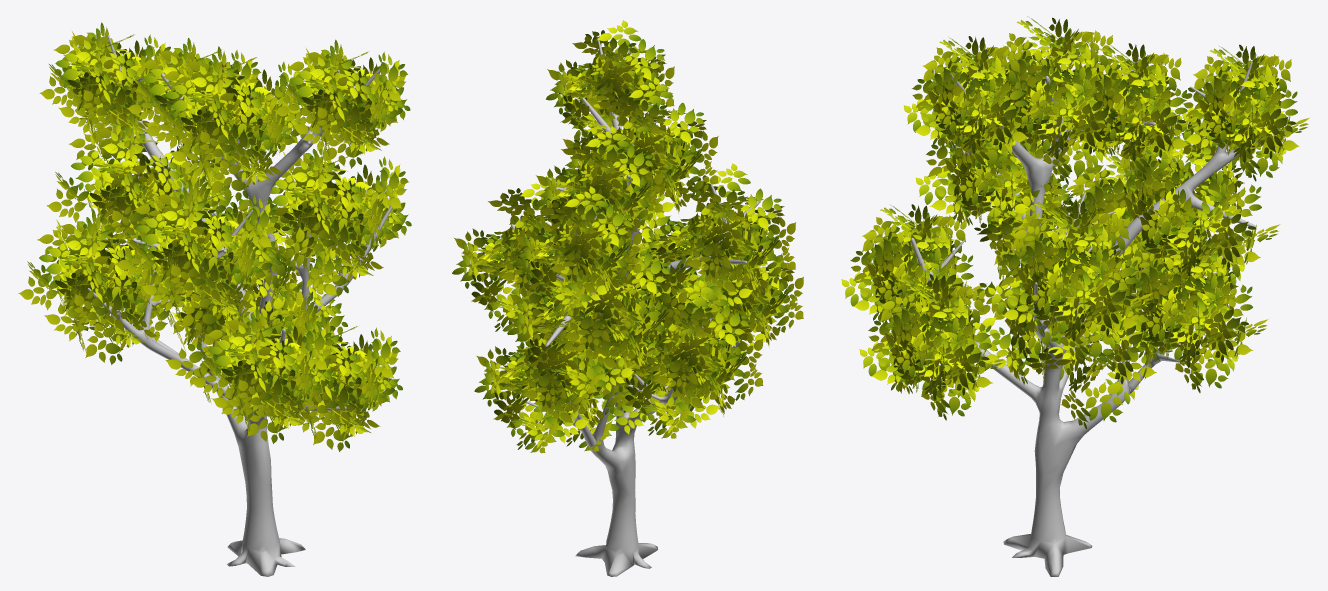
Rendered from Tree2.fbx.
3 views of the same model, side by side, from view 1: azimuth 30°, elevation 25°; view 2: azimuth 150°, elevation 25°; view 3: azimuth 270°, elevation 25° (orthographic). The views are drawn at different scales.
Parts seen in each view (by area): view 1: Plane.2024, Plane.1997; view 2: Plane.2024, Plane.1997; view 3: Plane.2024, Plane.1997.
Part boxes in pixels (x1,y1,x2,y2): Plane.2024: (18,22,411,451); Plane.1997: (87,35,392,576); Plane.2024: (452,20,803,453); Plane.1997: (511,37,760,576); Plane.2024: (841,16,1309,428); Plane.1997: (890,59,1278,576).
Size of the model in its own units: 4704 by 6888 by 5486.
